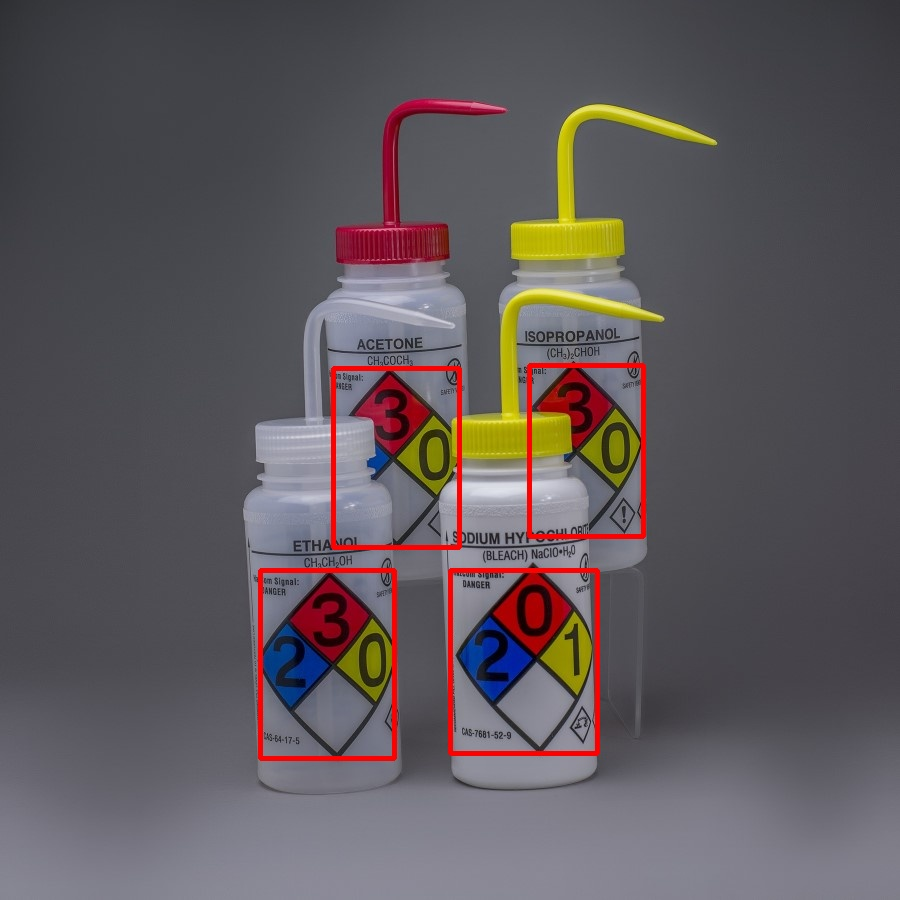nfpa: (450, 570, 597, 753), (260, 570, 394, 758), (333, 368, 459, 547), (529, 365, 643, 536)
